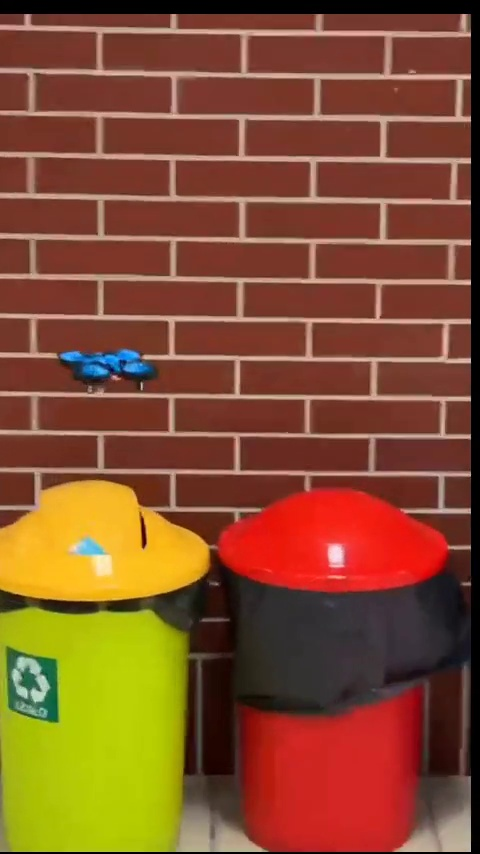drone: (57, 346, 157, 398)
